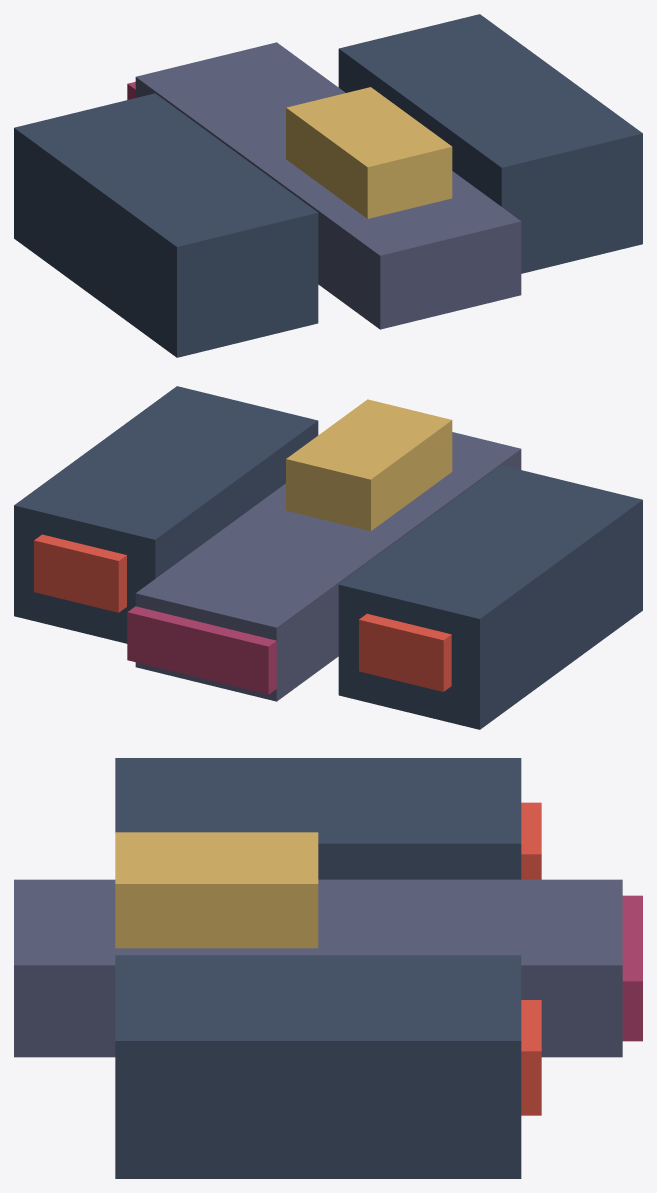
The model's file is carrier.glb.
The picture shows the model from 3 angles, top to bottom: view 1: azimuth 30°, elevation 25°; view 2: azimuth 150°, elevation 25°; view 3: azimuth 270°, elevation 25°; orthographic projection. The views are drawn at different scales.
Visible parts, largest first — view 1: Armour pod (×2), Armoured spine, Bridge; view 2: Armour pod (×2), Armoured spine, Bridge, Reactor (×2), Front shield; view 3: Armour pod (×2), Armoured spine, Bridge, Reactor (×2), Front shield.
Part boxes in pixels (box(x1,y1,x2,y2)): Armour pod (×2): box(14, 14, 642, 357); Armoured spine: box(135, 42, 521, 329); Bridge: box(286, 87, 452, 218); Armour pod (×2): box(14, 386, 642, 729); Armoured spine: box(135, 432, 521, 701); Bridge: box(286, 399, 452, 531); Reactor (×2): box(34, 534, 451, 691); Front shield: box(127, 606, 276, 694); Armour pod (×2): box(115, 758, 521, 1178); Armoured spine: box(14, 879, 622, 1057); Bridge: box(115, 832, 318, 948); Reactor (×2): box(521, 802, 541, 1115); Front shield: box(622, 895, 642, 1041).
Size of the model in its own units: 6.6 by 1.95 by 6.2.
